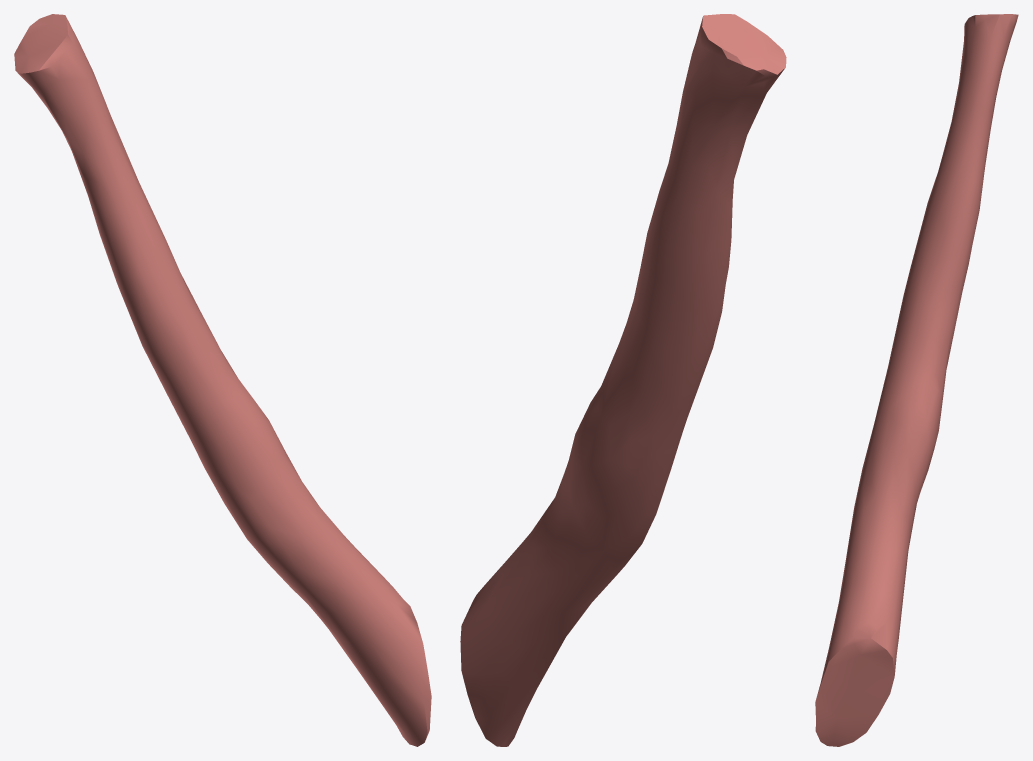
File: fma40826-f_mm1938m.glb
3 views of the same model, side by side, from view 1: azimuth 30°, elevation 25°; view 2: azimuth 150°, elevation 25°; view 3: azimuth 270°, elevation 25° (orthographic). The views are drawn at different scales.
Parts seen in each view (by area): view 1: FMA40826-F_MM1938M; view 2: FMA40826-F_MM1938M; view 3: FMA40826-F_MM1938M.
Part boxes in pixels (<box>): FMA40826-F_MM1938M: <box>14,14,431,746</box>; FMA40826-F_MM1938M: <box>460,14,786,746</box>; FMA40826-F_MM1938M: <box>815,14,1018,746</box>.
Size of the model in its own units: 0.018 by 0.0391 by 0.0115.
